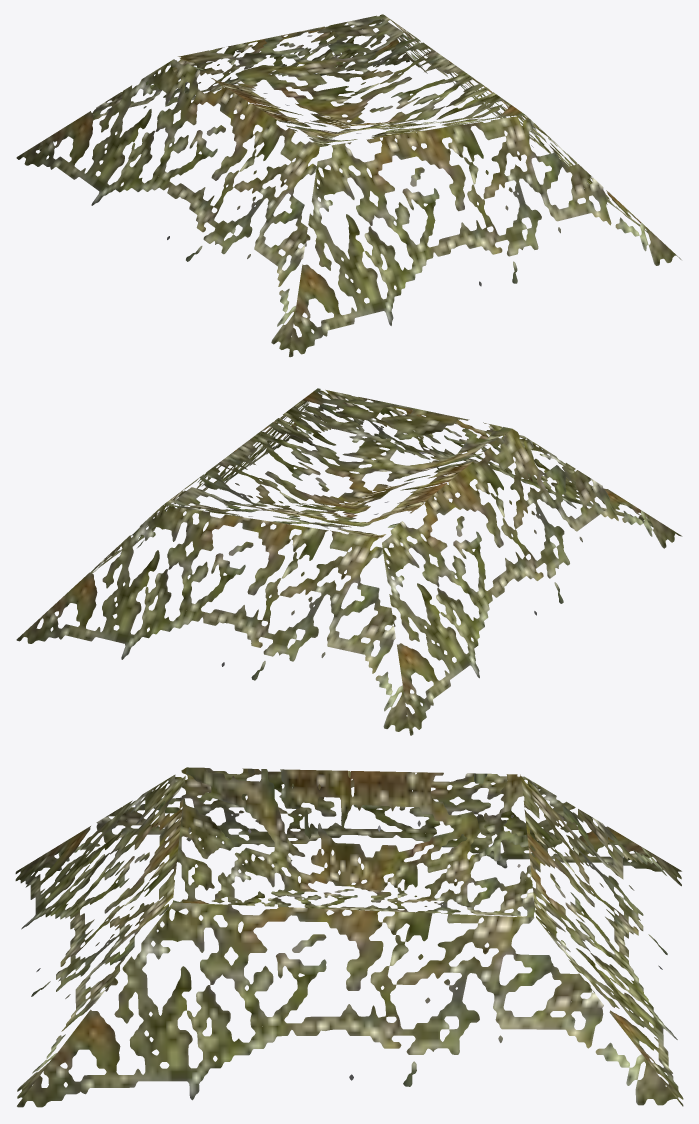
Rendered from CR_DI_SLIME.glb.
3 views of the same model, one above another, from view 1: azimuth 30°, elevation 25°; view 2: azimuth 150°, elevation 25°; view 3: azimuth 270°, elevation 25° (orthographic). The views are drawn at different scales.
Parts seen in each view (by area): view 1: Mesh; view 2: Mesh; view 3: Mesh.
Boxes of the visible parts, box(x1,y1,x2,y2) form: Mesh: box(16, 14, 681, 357); Mesh: box(16, 388, 682, 735); Mesh: box(15, 767, 683, 1107).
Bounding box in the file's own units: 0.744 × 0.2436 × 0.8913.
1 material, 1 textured.
